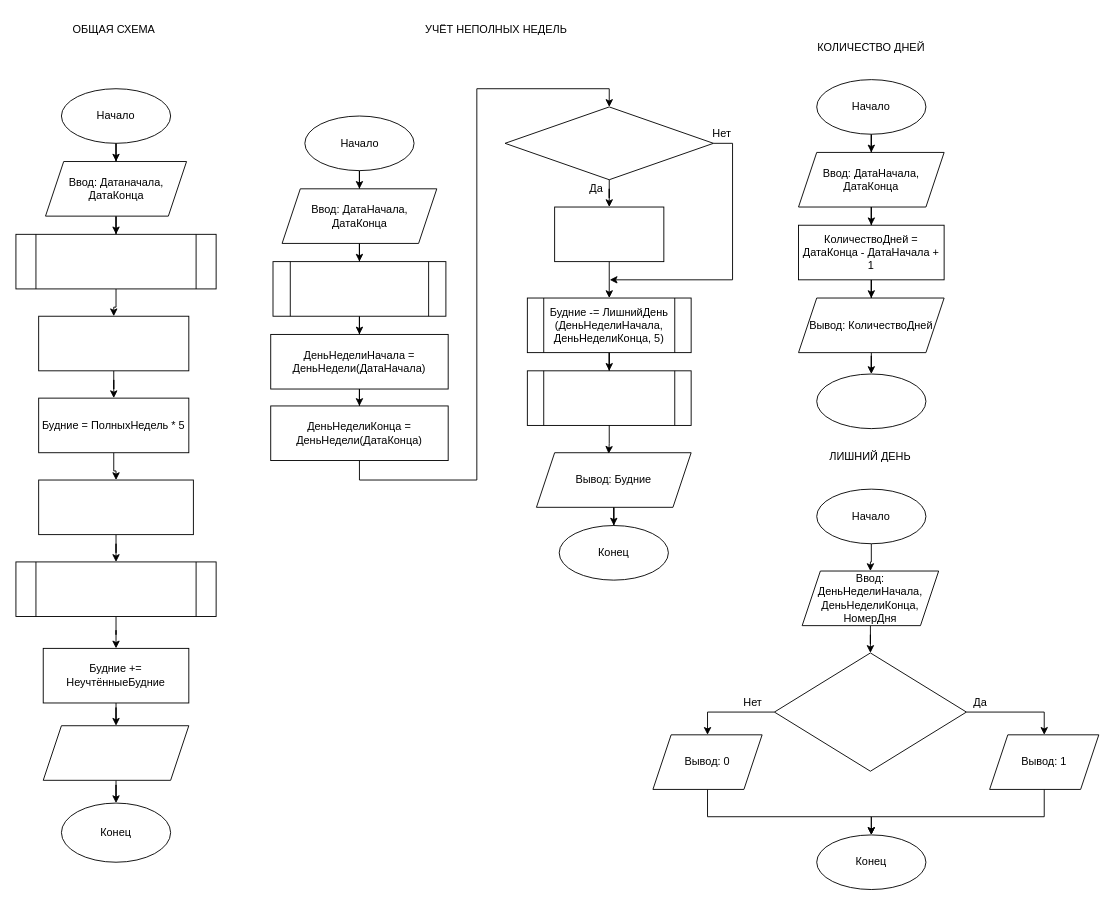
Image size: 1115x905. Some labels were removed from this diagram. The shapes that lost their labels are listed below. From the top down, each one's centre as x and y in pixels, then its label:
At point 608,143: "ДеньНеделиКонца < ДеньНеделиНачала".
At point 609,234: "ДеньНеделиКонца += 7".
At point 115,261: "ДнейВПериоде = КоличествоДней(ДатаНачала, ДатаКонца)".
At point 359,288: "будние = КоличествоДней (ДатаНачала, ДатаКонца)".
At point 113,343: "Полныхнедель = ДнейВПериоде / 7".
At point 608,397: "Будние -= ЛишнийДень (ДеньНеделиНачала, ДеньНеделиКонца, 6)".
At point 871,401: "Конеец".
At point 115,507: "НачалоНеучтённогоПериода = ДатаНачала + ПолныхНедель * 7".
At point 115,589: "НеучтённыеБудние = УчестьНеполныеНедели (НачалоНеучтённогоПериода, ДатаКонца)".
At point 870,711: "ДеньНеделиНачала <= НомерДня И НомерДня <= ДеньНеделиКонца".
At point 115,752: "Вывод: количество будних дней".
